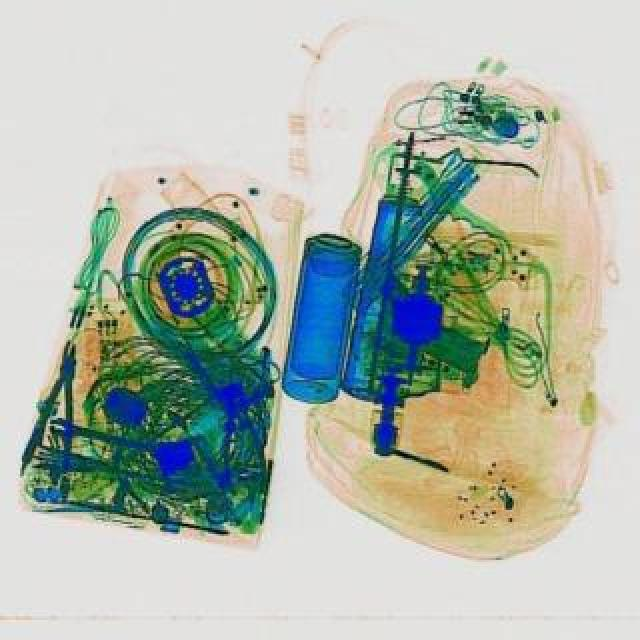scissors: (46, 418, 174, 470)
wrench: (20, 340, 92, 476), (208, 374, 268, 498)
